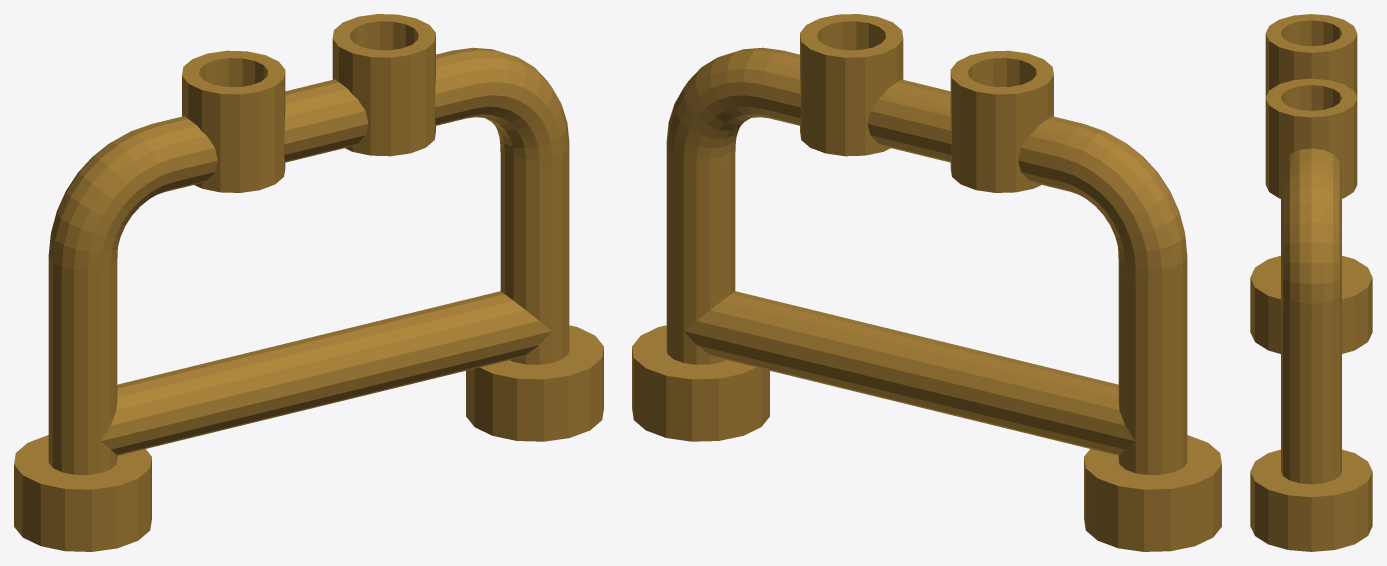
File: 4083 Hanger 1x4x2.dae
3 renders of one model, left to right at view 1: azimuth 30°, elevation 25°; view 2: azimuth 150°, elevation 25°; view 3: azimuth 270°, elevation 25°, orthographic. The views are drawn at different scales.
Visible parts, largest first — view 1: Part.0; view 2: Part.0; view 3: Part.0.
Boxes of the visible parts, x1,y1,x2,y2 form: Part.0: (14,14,603,551); Part.0: (632,14,1221,551); Part.0: (1250,14,1372,551).
Bounding box in the file's own units: 30.4 × 20.98 × 6.4.
